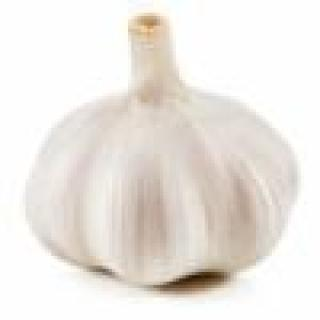Bawang Putih: (24, 4, 296, 283)
